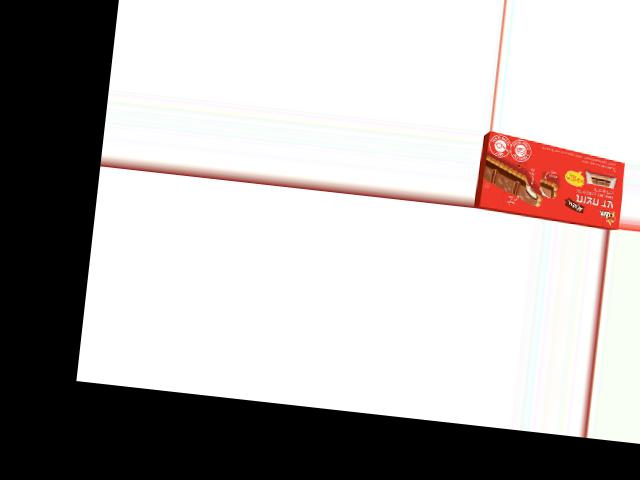chocolate: (475, 139, 627, 224)
